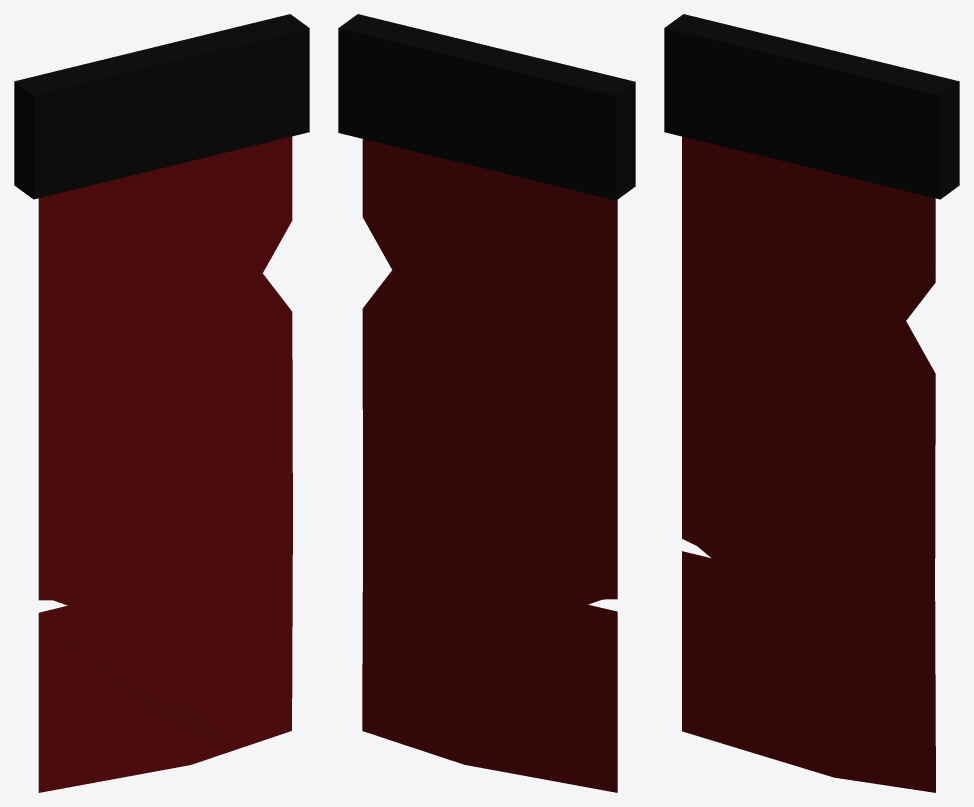
Rendered from flag_1.fbx.
3 views of the same model, side by side, from view 1: azimuth 30°, elevation 25°; view 2: azimuth 150°, elevation 25°; view 3: azimuth 330°, elevation 25° (orthographic).
Visible parts, largest first — view 1: flag_1; view 2: flag_1; view 3: flag_1.
Boxes of the visible parts, x1=… form: flag_1: x1=14, y1=14, x2=309, y2=792; flag_1: x1=338, y1=14, x2=635, y2=792; flag_1: x1=664, y1=14, x2=959, y2=792.
Bounding box in the file's own units: 273 × 674 × 32.99.
